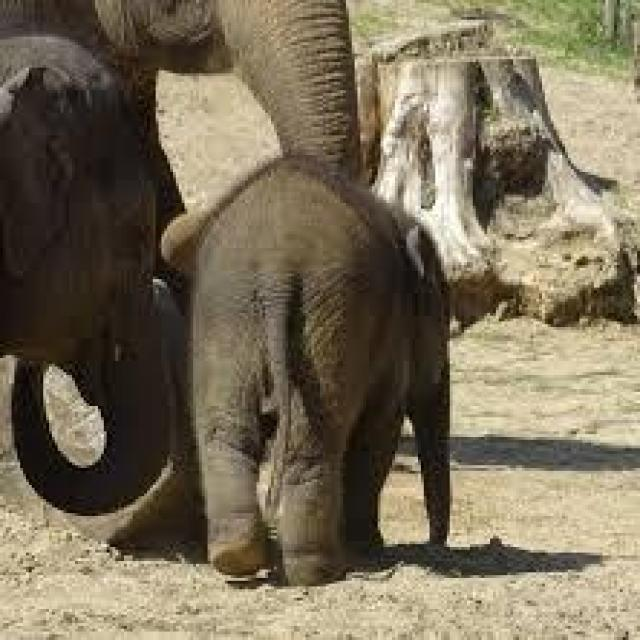Elephant: (156, 152, 464, 584)
